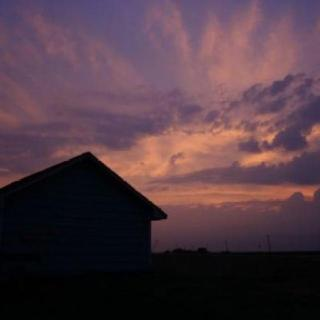Cumulonimbus: (0, 4, 320, 222)
